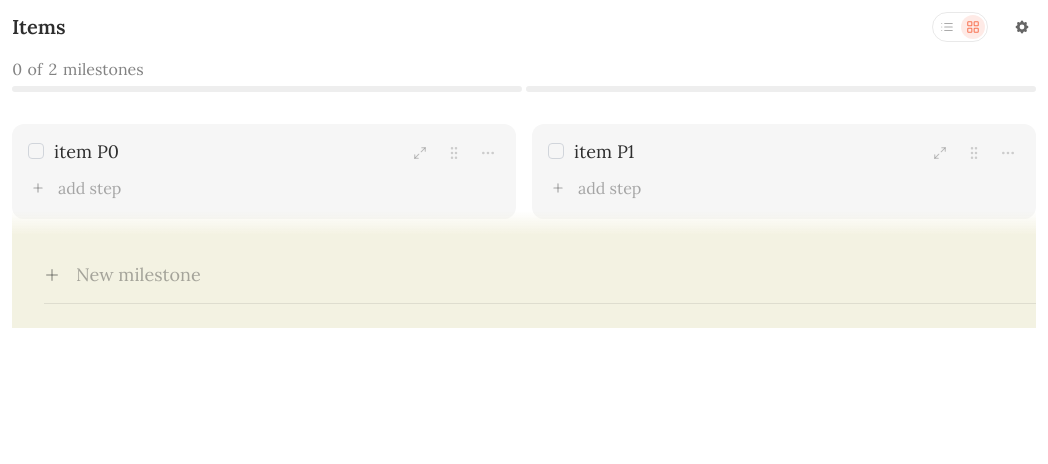
Scenario: Todo — deleting an item from the list › should keep the row and say so when the delete fails
Expected: the text "item P0" is shown, [54,140,119,163]
Click the button named "Checklist" at (947, 27), box [935,15,959,39]
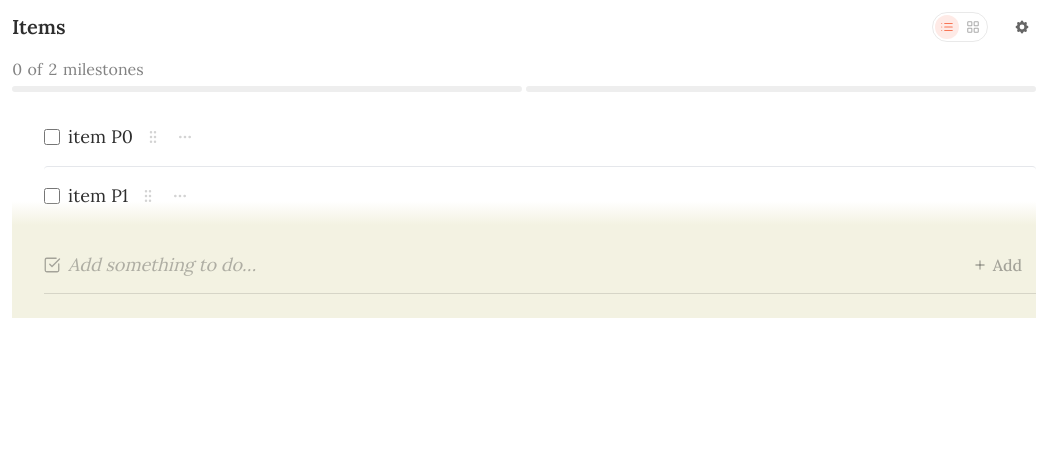
Click the button named "Actions for item P0" at (185, 137), box [173,125,197,149]
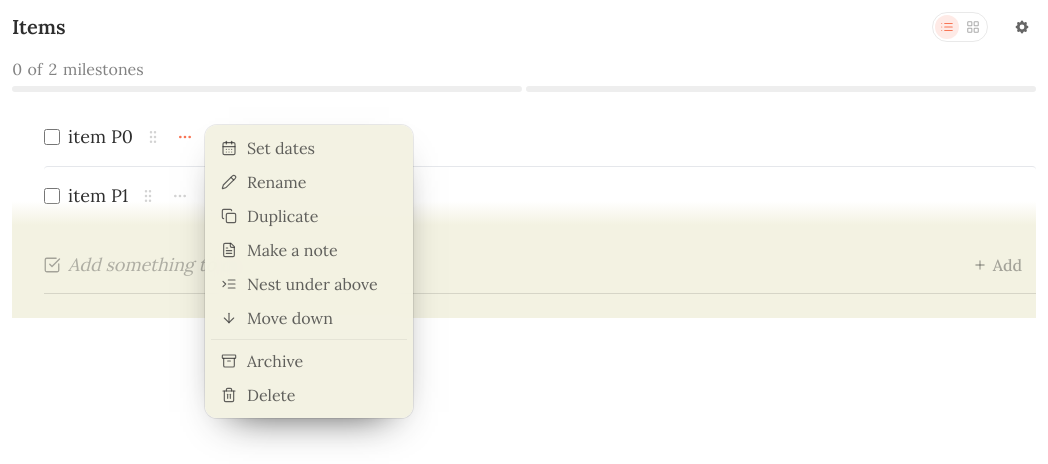
Click the menu item "Delete" at (309, 395), box [211,378,407,412]
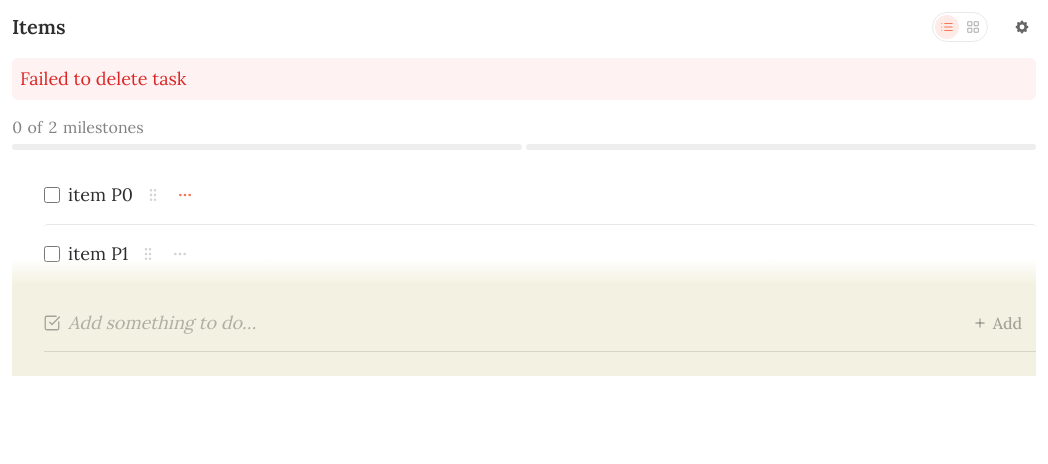
Expected: the text "item P0" is shown, [68,182,133,208]
Now the text "Failed to delete task" is shown, box [12,58,1036,100]
